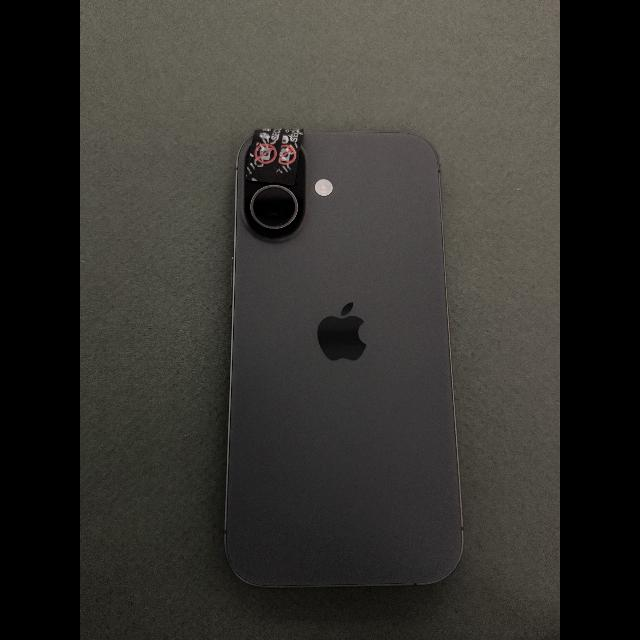lens: (252, 185, 295, 228)
phone: (224, 132, 464, 589)
sticker: (246, 129, 304, 185)
